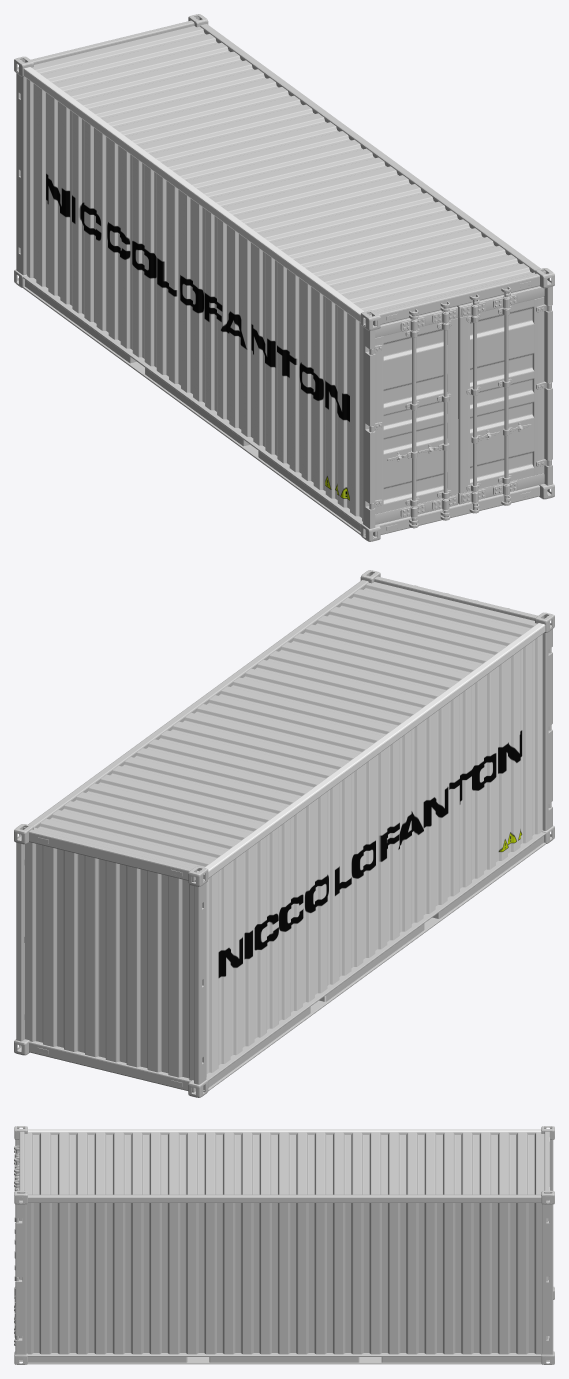
Rendered from container-model.glb.
3 renders of one model, top to bottom at view 1: azimuth 30°, elevation 25°; view 2: azimuth 150°, elevation 25°; view 3: azimuth 270°, elevation 25°, orthographic. The views are drawn at different scales.
Visible parts, largest first — view 1: front.001, top.001, right.001, bottom.001, branding, left.001, back.001; view 2: front.001, top.001, left.001, bottom.001, branding, right.001, back.001; view 3: back.001, top.001, bottom.001, right.001, left.001, front.001.
Boxes of the visible parts, left/top/right/bottom form: front.001: left=23, top=67, right=369, bottom=521; top.001: left=32, top=26, right=534, bottom=318; right.001: left=360, top=268, right=554, bottom=541; bottom.001: left=23, top=276, right=458, bottom=535; branding: left=46, top=173, right=349, bottom=500; left.001: left=14, top=14, right=208, bottom=287; back.001: left=200, top=24, right=545, bottom=418; front.001: left=199, top=623, right=545, bottom=1076; top.001: left=34, top=582, right=536, bottom=874; left.001: left=14, top=824, right=208, bottom=1097; bottom.001: left=203, top=832, right=545, bottom=1091; branding: left=218, top=730, right=522, bottom=977; right.001: left=360, top=570, right=554, bottom=843; back.001: left=23, top=580, right=368, bottom=828; back.001: left=26, top=1194, right=542, bottom=1354; top.001: left=24, top=1132, right=544, bottom=1194; bottom.001: left=27, top=1353, right=541, bottom=1364; right.001: left=14, top=1126, right=27, bottom=1364; left.001: left=541, top=1126, right=554, bottom=1364; front.001: left=28, top=1129, right=541, bottom=1134.
Bounding box in the file's own units: 2.18 × 2.5 × 7.2.
3 materials, 1 textured.
